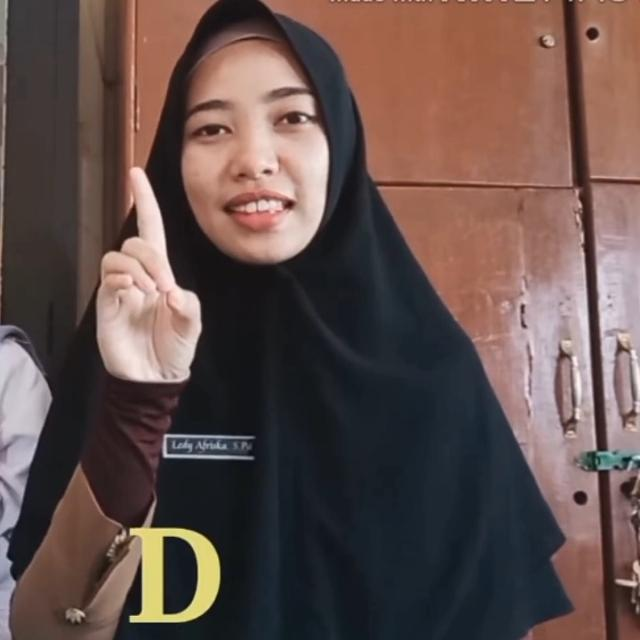D: (96, 165, 204, 382)
